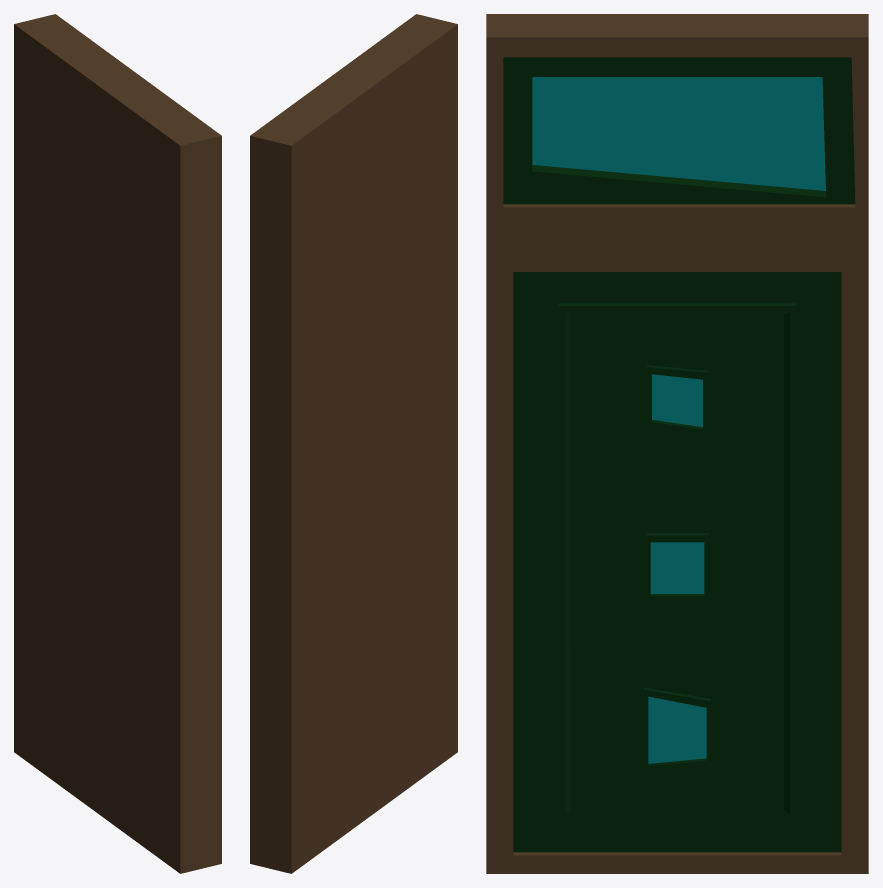
The model's file is Door15.fbx.
3 renders of one model, left to right at view 1: azimuth 30°, elevation 25°; view 2: azimuth 150°, elevation 25°; view 3: azimuth 270°, elevation 25°, orthographic. The views are drawn at different scales.
Visible parts, largest first — view 1: Cube.041; view 2: Cube.041; view 3: Cube.041.
Part boxes in pixels (x1,y1,x2,y2): Cube.041: [14, 14, 221, 873]; Cube.041: [250, 14, 457, 873]; Cube.041: [486, 14, 868, 873].
Size of the model in its own units: 16.34 by 258 by 107.
